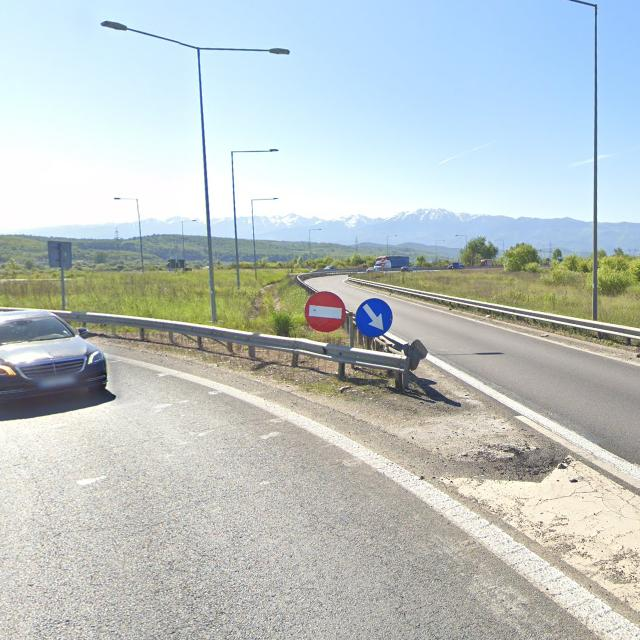forb_ahead: (305, 292, 345, 332)
mand_pass_right: (357, 298, 392, 336)
